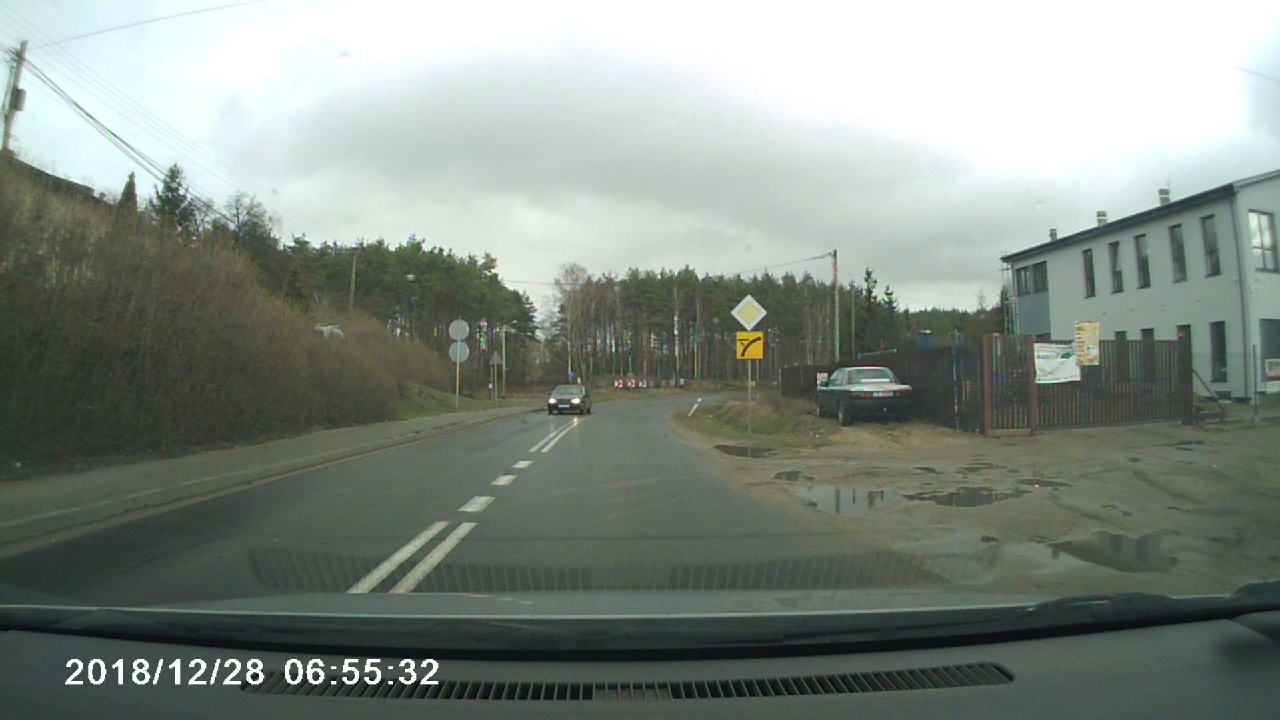D1: (724, 287, 768, 328)
